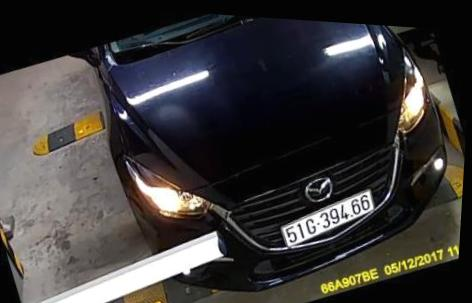License_Plate: (268, 183, 381, 254)
